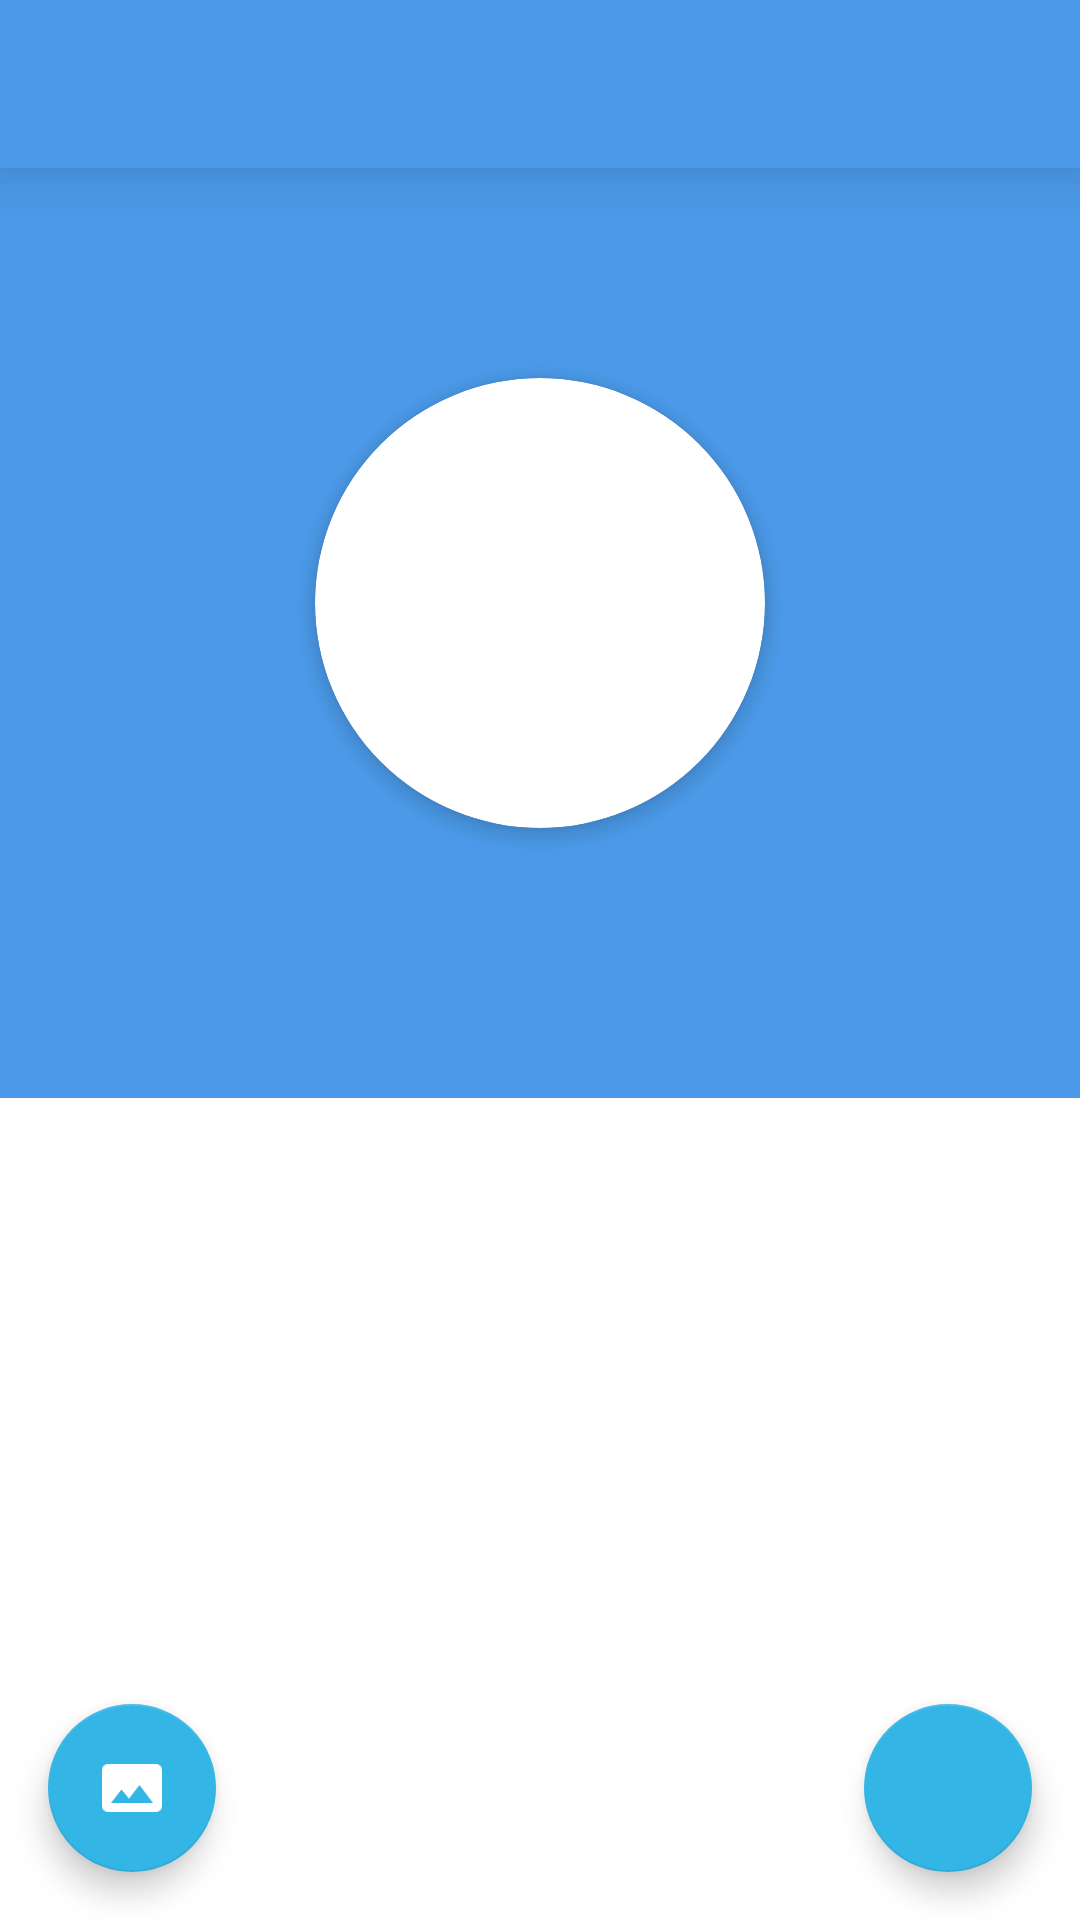

Icon click points for this 1080 × 1920 phone screenshot, format (x=x, y=y):
galery: (x=132, y=1788)
